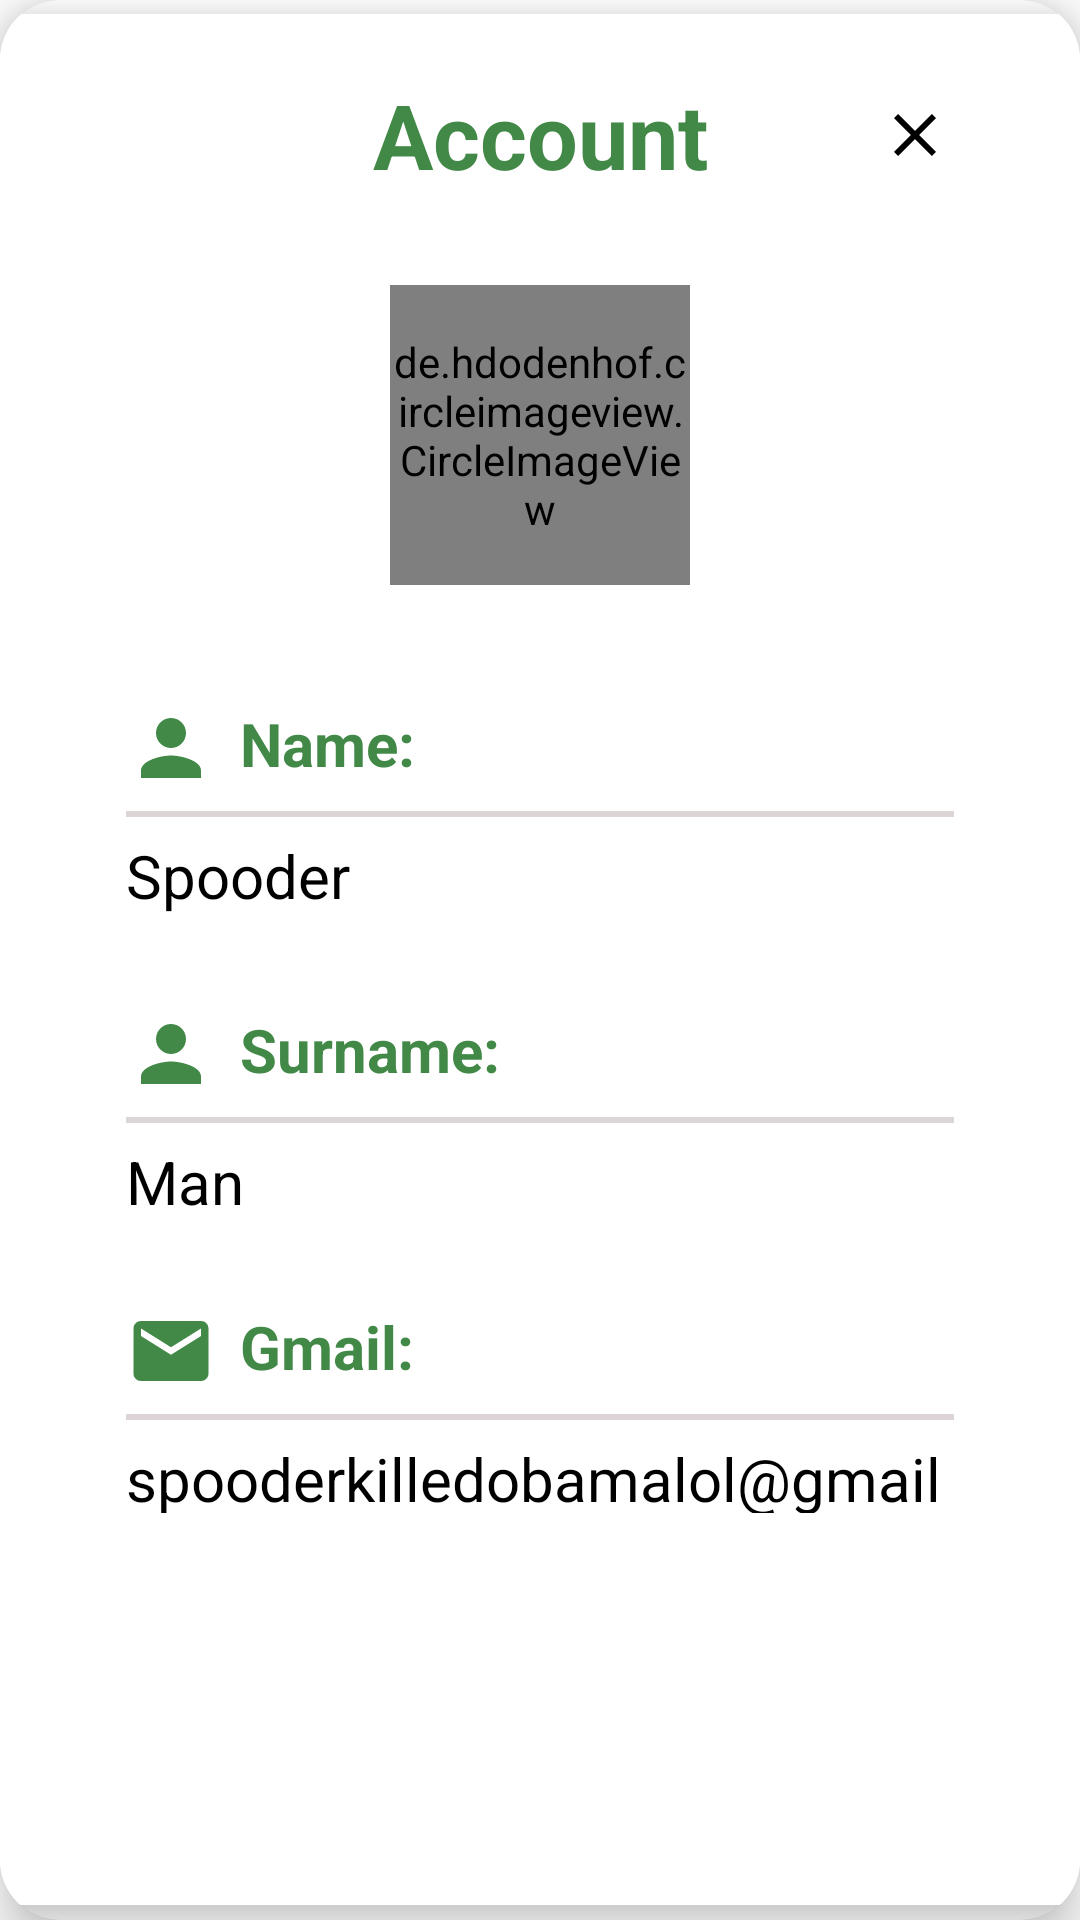

Named icons in this screenshot (1080*1920) and their centers, [x,y]:
close: [915,135]
